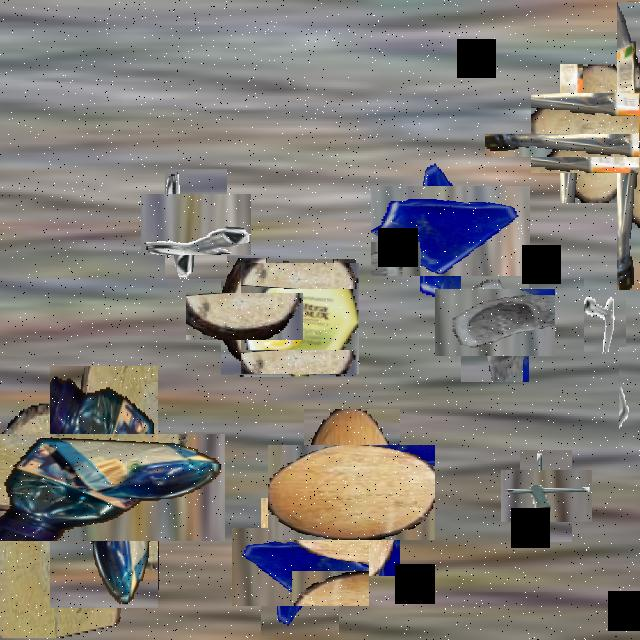glass: (388, 168, 512, 294), (246, 513, 354, 621), (448, 275, 542, 369)
metal: (153, 181, 239, 267), (510, 460, 582, 532), (584, 277, 626, 352), (619, 347, 640, 446)
plastic: (17, 400, 192, 574), (550, 68, 640, 223), (242, 261, 358, 375)
wood: (0, 404, 131, 638), (286, 427, 418, 558), (545, 78, 640, 188), (204, 275, 286, 358)
